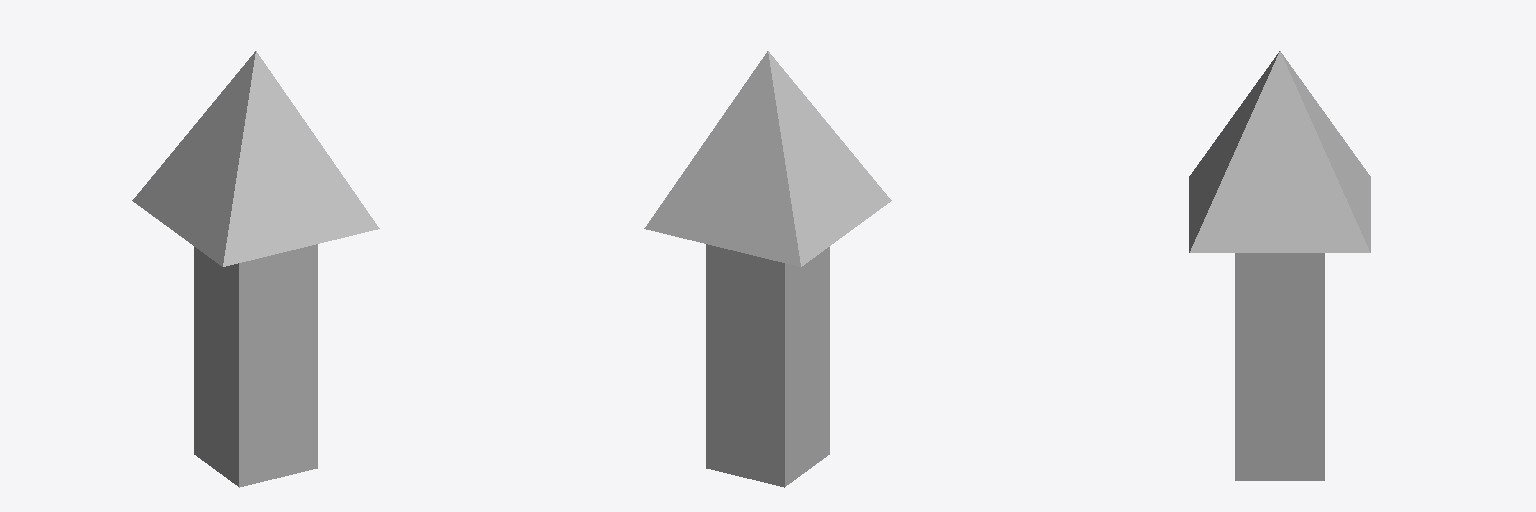
Rendered from arrow.obj.
3 views of the same model, side by side, from view 1: azimuth 30°, elevation 25°; view 2: azimuth 150°, elevation 25°; view 3: azimuth 270°, elevation 25° (orthographic).
Parts seen in each view (by area): view 1: 立方体; view 2: 立方体; view 3: 立方体.
Part boxes in pixels (bbox=[...]): 立方体: bbox=[132, 51, 379, 487]; 立方体: bbox=[644, 51, 891, 487]; 立方体: bbox=[1189, 51, 1370, 480].
Size of the model in its own units: 2 by 5 by 2.